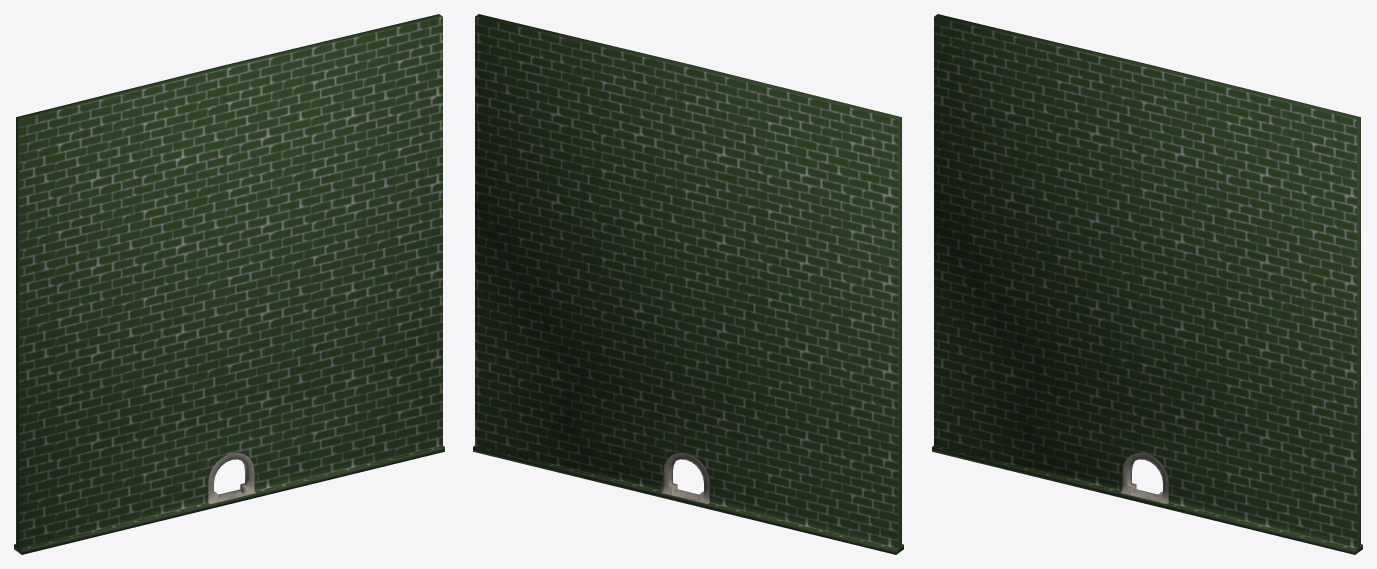
File: SewerModule_GateOfTartarus.fbx
3 views of the same model, side by side, from view 1: azimuth 30°, elevation 25°; view 2: azimuth 150°, elevation 25°; view 3: azimuth 330°, elevation 25° (orthographic).
Visible parts, largest first — view 1: Big_Start.008; view 2: Big_Start.008; view 3: Big_Start.008.
Boxes of the visible parts, left/top/right/bottom form: Big_Start.008: left=14, top=14, right=444, bottom=554; Big_Start.008: left=473, top=14, right=903, bottom=554; Big_Start.008: left=932, top=14, right=1362, bottom=554.
Size of the model in its own units: 9369 by 9195 by 300.
